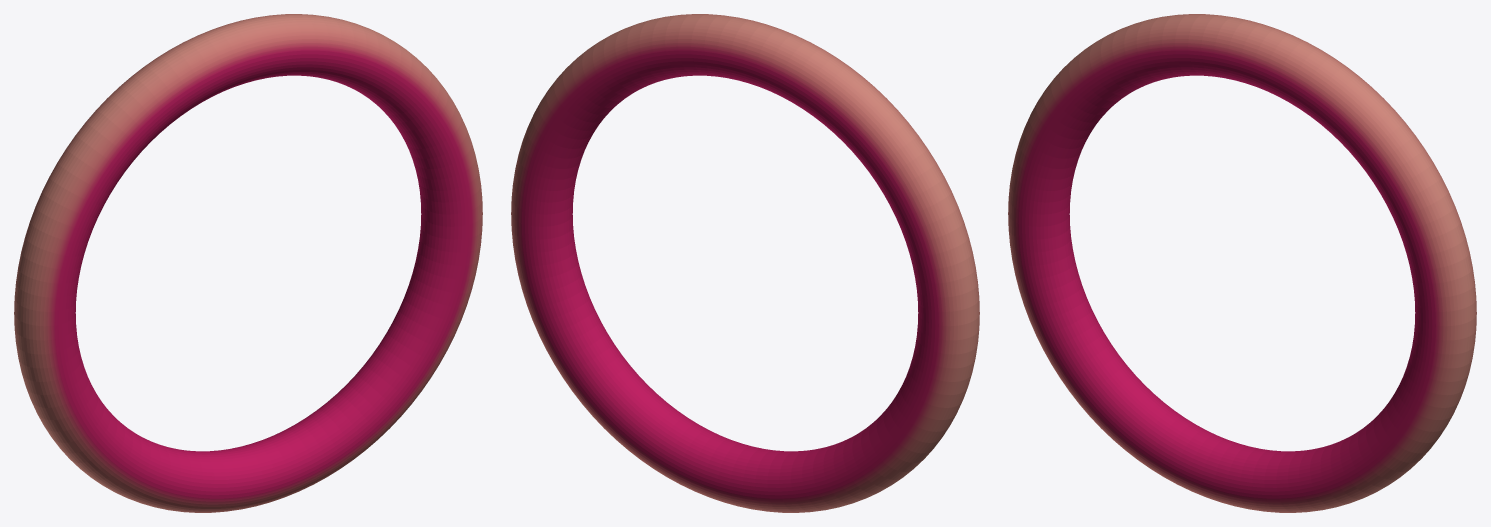
3 views of the same model, side by side, from view 1: azimuth 30°, elevation 25°; view 2: azimuth 150°, elevation 25°; view 3: azimuth 330°, elevation 25° (orthographic).
Visible parts, largest first — view 1: world; view 2: world; view 3: world.
Boxes of the visible parts, x1,y1,x2,y2 form: world: [14, 14, 482, 512]; world: [511, 14, 979, 512]; world: [1008, 14, 1476, 512].
Bounding box in the file's own units: 24.13 × 24.13 × 2.79.
